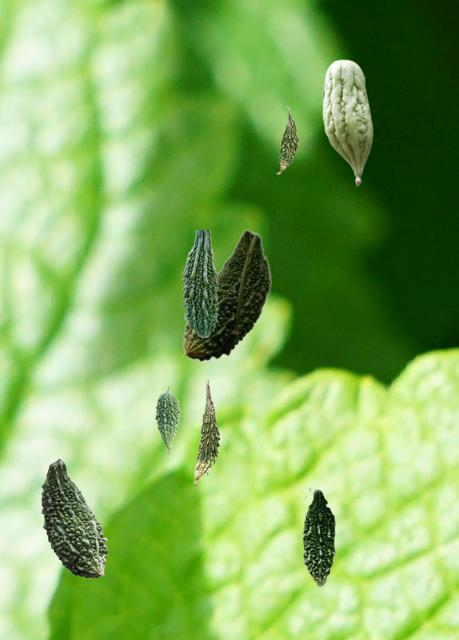ampalaya: (182, 229, 271, 361), (41, 458, 107, 577), (322, 59, 372, 185), (181, 230, 218, 336), (302, 487, 337, 587), (194, 380, 219, 486), (155, 386, 179, 454), (276, 105, 298, 173)
